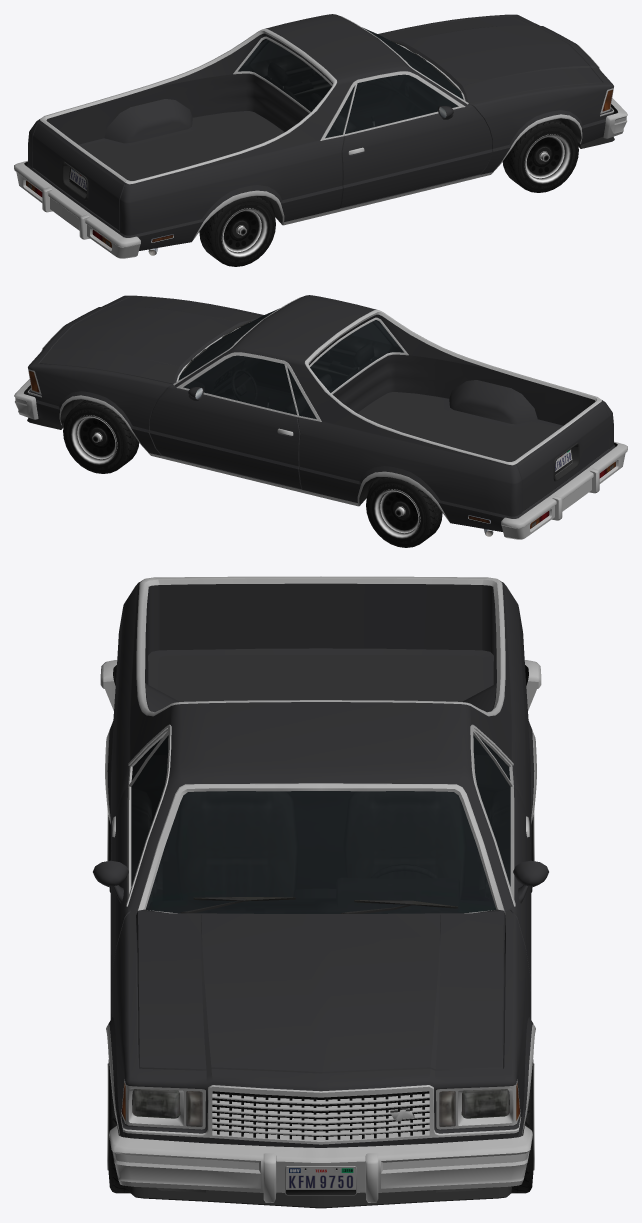
Rendered from elalamo.glb.
3 views of the same model, one above another, from view 1: azimuth 30°, elevation 25°; view 2: azimuth 150°, elevation 25°; view 3: azimuth 270°, elevation 25° (orthographic). The views are drawn at different scales.
Visible parts, largest first — view 1: ElAlamo78_Body_ElAlamo78_Bodymat_0, ElAlamo78_Hood_ElAlamo78_Bodymat_0, ElAlamo78_Bottom_UCB_BOTTOM_0, ElAlamo78_Interior_UCB_Interiors_2_0, ElAlamo78_Trunkdoor_ElAlamo78_Bodymat_0, ElAlamo78_WheelStock_FR_RB1c_Tire_1k_0, ElAlamo78_WheelStock_RR_RB1c_Tire_1k_0, ElAlamo78_Glass_Driver001_UCB_Lights_and_Glass_Transperent_0, ElAlamo78_Bumper_Rear_UCB_BOTTOM_0, ElAlamo78_Rear_Glass_UCB_Lights_and_Glass_Transperent_0, ElAlamo78_Windshield_UCB_Lights_and_Glass_Transperent_0, ElAlamo78_Trunkdoor_Inner_UCB_BOTTOM_0 (+3 smaller); view 2: ElAlamo78_Body_ElAlamo78_Bodymat_0, ElAlamo78_Hood_ElAlamo78_Bodymat_0, ElAlamo78_Bottom_UCB_BOTTOM_0, ElAlamo78_Interior_UCB_Interiors_2_0, ElAlamo78_Trunkdoor_ElAlamo78_Bodymat_0, ElAlamo78_WheelStock_FL_RB1c_Tire_1k_0, ElAlamo78_WheelStock_RL_RB1c_Tire_1k_0, ElAlamo78_Glass_Driver_UCB_Lights_and_Glass_Transperent_0, ElAlamo78_Bumper_Rear_UCB_BOTTOM_0, ElAlamo78_Rear_Glass_UCB_Lights_and_Glass_Transperent_0, ElAlamo78_Windshield_UCB_Lights_and_Glass_Transperent_0, ElAlamo78_Trunkdoor_Inner_UCB_BOTTOM_0 (+3 smaller); view 3: ElAlamo78_Body_ElAlamo78_Bodymat_0, ElAlamo78_Hood_ElAlamo78_Bodymat_0, ElAlamo78_Interior_UCB_Interiors_2_0, ElAlamo78_Windshield_UCB_Lights_and_Glass_Transperent_0, ElAlamo78_Bottom_UCB_BOTTOM_0, ElAlamo78_Trunkdoor_ElAlamo78_Bodymat_0, ElAlamo78_Bumper_Front_UCB_BOTTOM_0, ElAlamo78_Headlights_UCB_Lights_and_Glass_Transperent_0, ElAlamo78_Headlights001_UCB_Lights_and_Glass_0, ElAlamo78_Glass_Driver_UCB_Lights_and_Glass_Transperent_0, ElAlamo78_Glass_Driver001_UCB_Lights_and_Glass_Transperent_0, ElAlamo78_Trunkdoor_Inner_UCB_BOTTOM_0 (+4 smaller).
Part boxes in pixels (x1,y1,x2,y2): ElAlamo78_Body_ElAlamo78_Bodymat_0: (26, 14, 613, 250); ElAlamo78_Hood_ElAlamo78_Bodymat_0: (380, 16, 602, 103); ElAlamo78_Bottom_UCB_BOTTOM_0: (40, 16, 614, 255); ElAlamo78_Interior_UCB_Interiors_2_0: (239, 39, 462, 137); ElAlamo78_Trunkdoor_ElAlamo78_Bodymat_0: (33, 121, 125, 230); ElAlamo78_WheelStock_FR_RB1c_Tire_1k_0: (502, 119, 578, 192); ElAlamo78_WheelStock_RR_RB1c_Tire_1k_0: (199, 196, 275, 266); ElAlamo78_Glass_Driver001_UCB_Lights_and_Glass_Transperent_0: (345, 74, 458, 133); ElAlamo78_Bumper_Rear_UCB_BOTTOM_0: (14, 160, 140, 258); ElAlamo78_Rear_Glass_UCB_Lights_and_Glass_Transperent_0: (238, 39, 331, 111); ElAlamo78_Windshield_UCB_Lights_and_Glass_Transperent_0: (362, 27, 463, 99); ElAlamo78_Trunkdoor_Inner_UCB_BOTTOM_0: (41, 120, 126, 200); ElAlamo78_Body_ElAlamo78_Bodymat_0: (28, 295, 615, 531); ElAlamo78_Hood_ElAlamo78_Bodymat_0: (39, 297, 261, 384); ElAlamo78_Bottom_UCB_BOTTOM_0: (27, 297, 601, 536); ElAlamo78_Interior_UCB_Interiors_2_0: (179, 320, 402, 418); ElAlamo78_Trunkdoor_ElAlamo78_Bodymat_0: (516, 402, 608, 511); ElAlamo78_WheelStock_FL_RB1c_Tire_1k_0: (63, 400, 139, 473); ElAlamo78_WheelStock_RL_RB1c_Tire_1k_0: (366, 477, 442, 547); ElAlamo78_Glass_Driver_UCB_Lights_and_Glass_Transperent_0: (183, 355, 296, 414); ElAlamo78_Bumper_Rear_UCB_BOTTOM_0: (501, 441, 627, 539); ElAlamo78_Rear_Glass_UCB_Lights_and_Glass_Transperent_0: (310, 320, 403, 392); ElAlamo78_Windshield_UCB_Lights_and_Glass_Transperent_0: (178, 308, 279, 380); ElAlamo78_Trunkdoor_Inner_UCB_BOTTOM_0: (515, 401, 600, 481); ElAlamo78_Body_ElAlamo78_Bodymat_0: (93, 581, 548, 1147); ElAlamo78_Hood_ElAlamo78_Bodymat_0: (136, 909, 505, 1073); ElAlamo78_Interior_UCB_Interiors_2_0: (132, 737, 509, 913); ElAlamo78_Windshield_UCB_Lights_and_Glass_Transperent_0: (145, 791, 496, 913); ElAlamo78_Bottom_UCB_BOTTOM_0: (105, 577, 536, 1208); ElAlamo78_Trunkdoor_ElAlamo78_Bodymat_0: (159, 583, 482, 650); ElAlamo78_Bumper_Front_UCB_BOTTOM_0: (109, 1125, 532, 1202); ElAlamo78_Headlights_UCB_Lights_and_Glass_Transperent_0: (132, 1089, 509, 1126); ElAlamo78_Headlights001_UCB_Lights_and_Glass_0: (132, 1089, 509, 1126); ElAlamo78_Glass_Driver_UCB_Lights_and_Glass_Transperent_0: (473, 735, 510, 886); ElAlamo78_Glass_Driver001_UCB_Lights_and_Glass_Transperent_0: (131, 735, 168, 886); ElAlamo78_Trunkdoor_Inner_UCB_BOTTOM_0: (154, 576, 487, 584).
Size of the model in its own units: 5.13 by 1.38 by 1.91.
8 materials, 7 textured.
